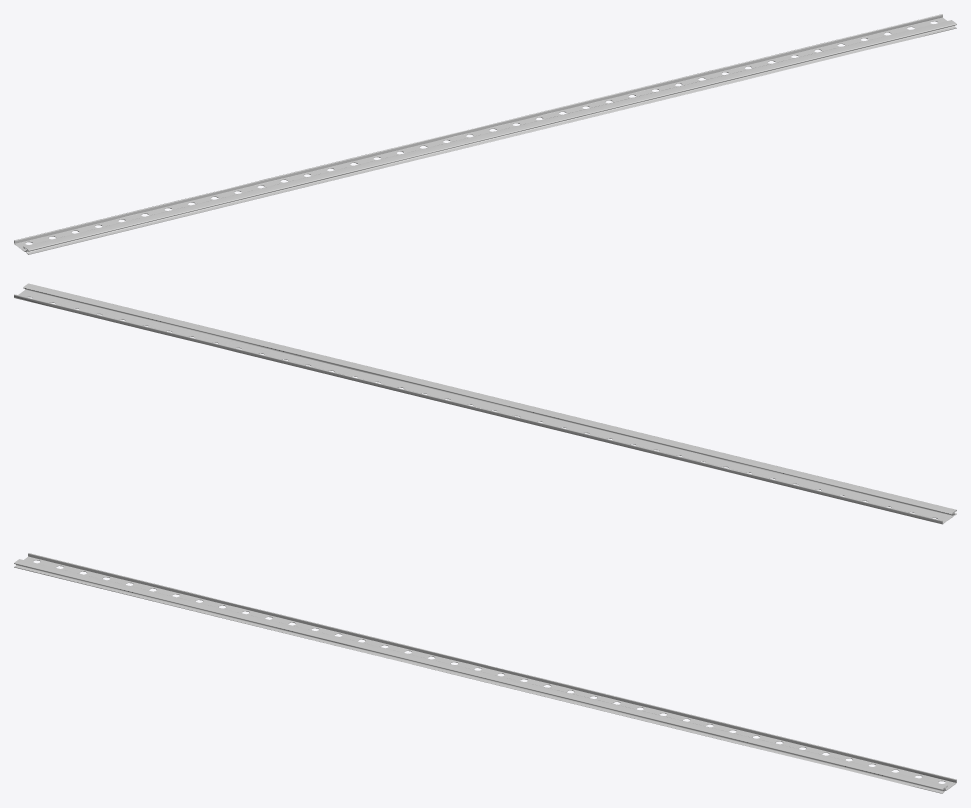
The model's file is metod_szyna_do_zawieszania_60205664.glb.
The picture shows the model from 3 angles, top to bottom: view 1: azimuth 30°, elevation 25°; view 2: azimuth 150°, elevation 25°; view 3: azimuth 330°, elevation 25°; orthographic projection.
Parts seen in each view (by area): view 1: metod_szyna_do_zawieszania_60205664; view 2: metod_szyna_do_zawieszania_60205664; view 3: metod_szyna_do_zawieszania_60205664.
Part boxes in pixels (<box>): metod_szyna_do_zawieszania_60205664: <box>14,14,956,254</box>; metod_szyna_do_zawieszania_60205664: <box>14,283,956,524</box>; metod_szyna_do_zawieszania_60205664: <box>14,553,956,793</box>.
Bounding box in the file's own units: 2 × 0.00973 × 0.0555.
1 material, 1 textured.
